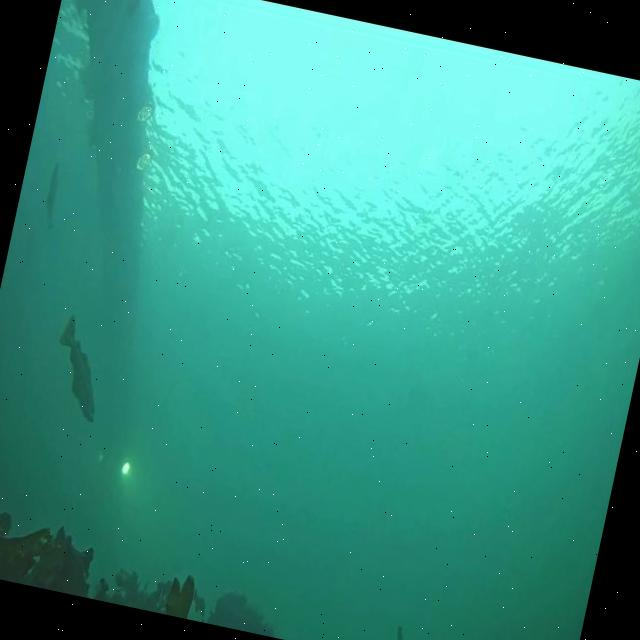fish: (45, 316, 114, 424), (40, 160, 65, 229), (389, 625, 408, 640)
